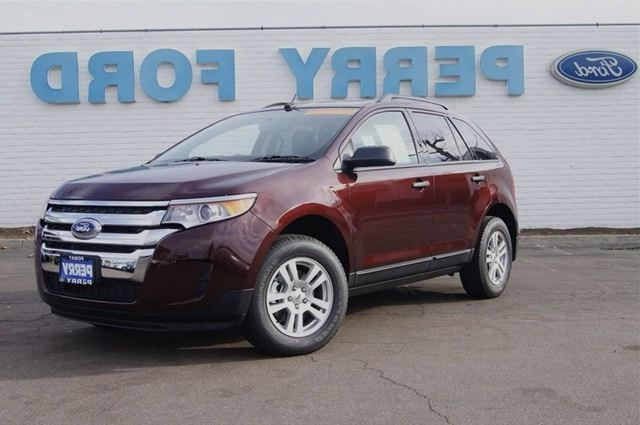car: (22, 80, 539, 359)
